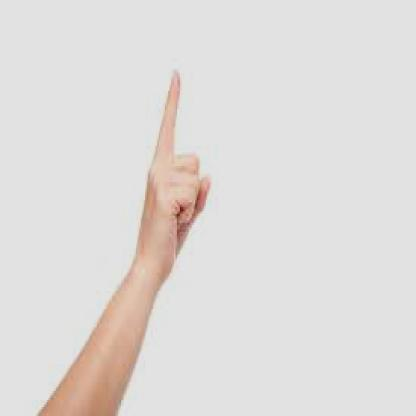Up: (131, 61, 221, 273)
